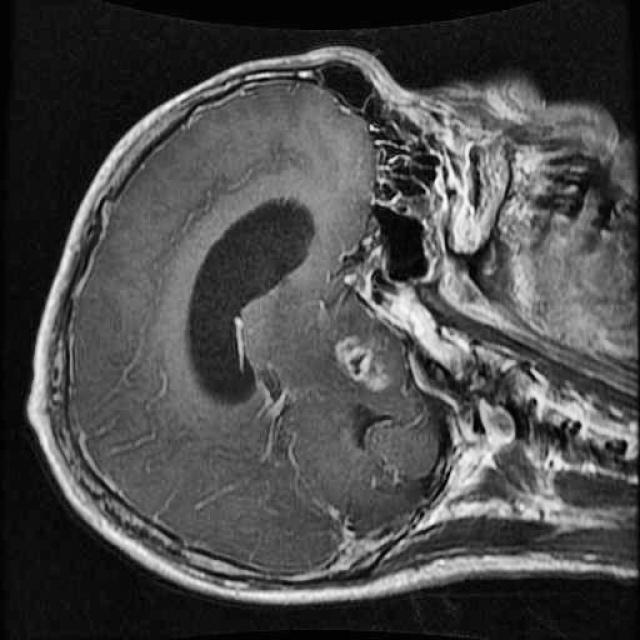Tumor: (314, 318, 424, 419)
